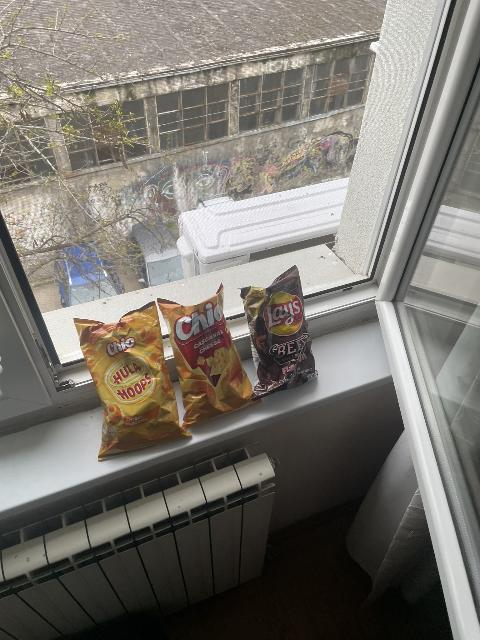Chio Cascaval 125g: (161, 285, 260, 426)
Chio Hula Hoops Cheese 70g: (74, 302, 192, 457)
Lays Beef Grilled Ribs 125g: (244, 267, 320, 395)
